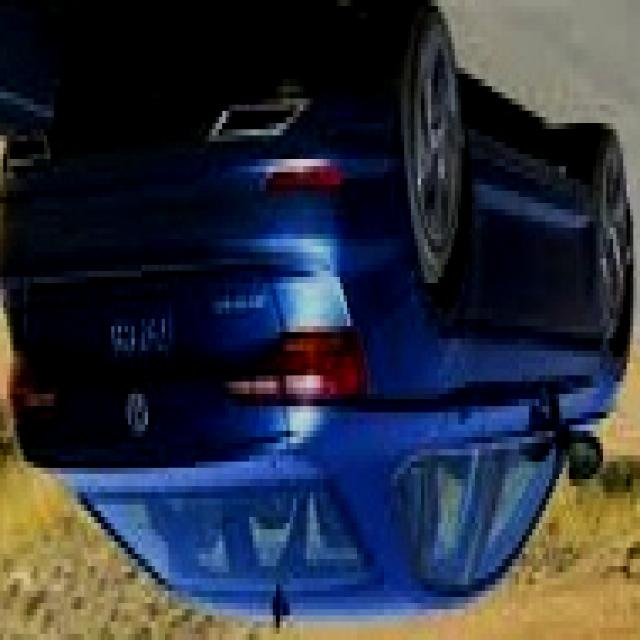blue: (0, 6, 620, 628)
